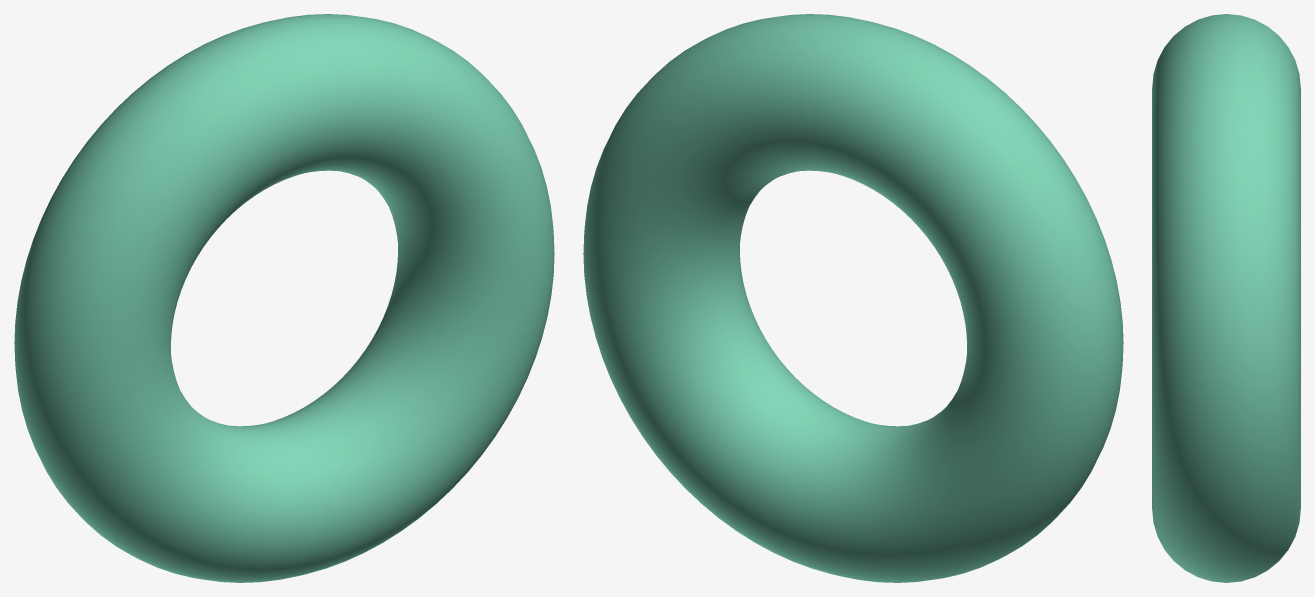
Rendered from ring-high.glb.
3 views of the same model, side by side, from view 1: azimuth 30°, elevation 25°; view 2: azimuth 150°, elevation 25°; view 3: azimuth 270°, elevation 25° (orthographic). The views are drawn at different scales.
Bounding box in the file's own units: 1.76 × 1.76 × 0.46.
